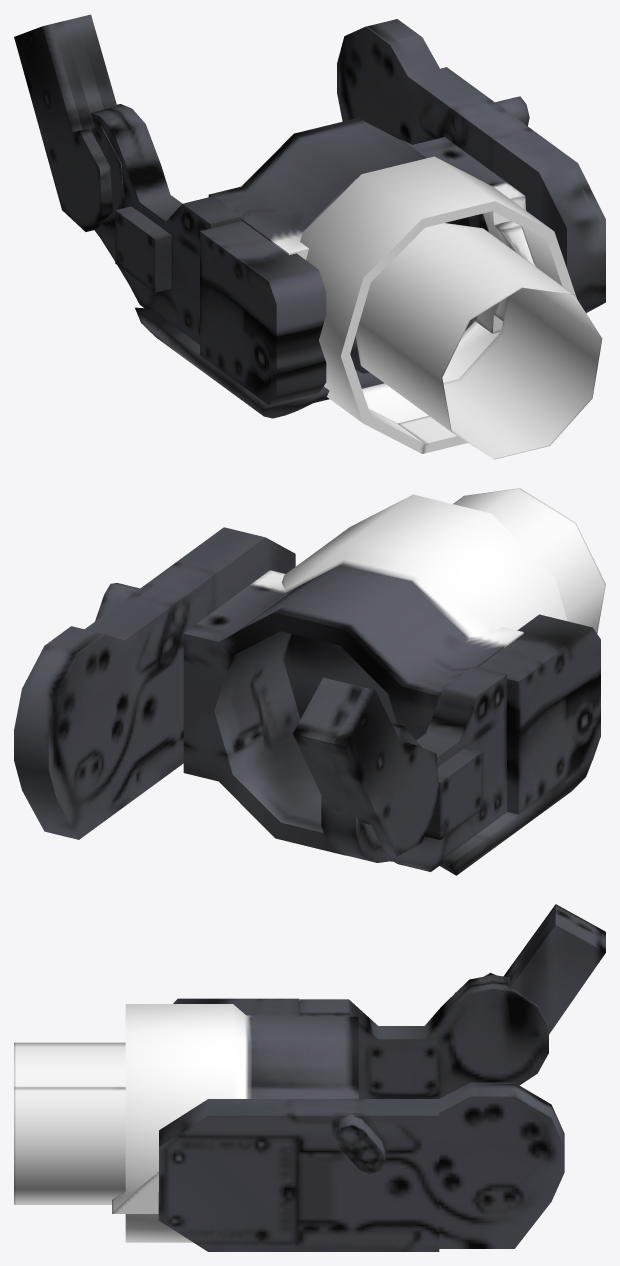
File: r_scap.dae
3 views of the same model, one above another, from view 1: azimuth 30°, elevation 25°; view 2: azimuth 150°, elevation 25°; view 3: azimuth 270°, elevation 25° (orthographic). The views are drawn at different scales.
Visible parts, largest first — view 1: r_scap; view 2: r_scap; view 3: r_scap.
Boxes of the visible parts, x1,y1,x2,y2 form: r_scap: (14,14,605,459); r_scap: (14,488,605,875); r_scap: (14,904,605,1251).
Bounding box in the file's own units: 0.1717 × 0.2756 × 0.1279.
Materials: 1 (1 with a texture image).
